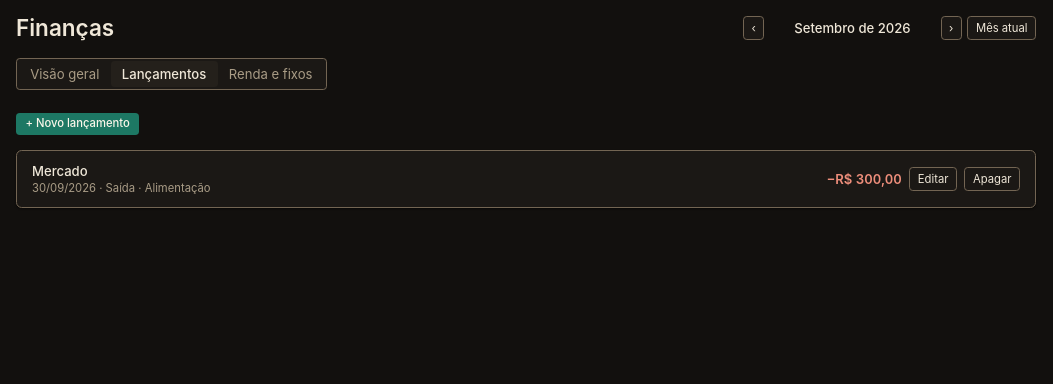
it: ConteudoDeFinancas › nova categoria sem nome ou com nome repetido mostra o motivo e continua aberta
Step 1. Click the button "+ Novo lançamento" → {"x": 78, "y": 124}, box [16, 112, 139, 135]
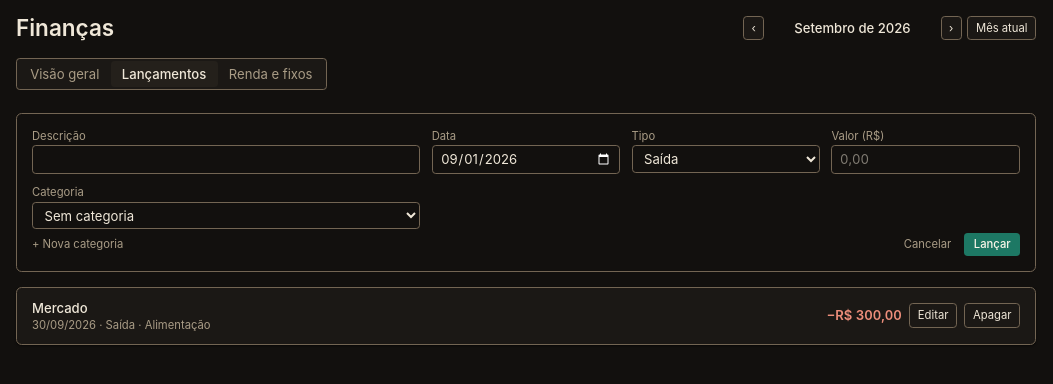
Step 2. Click the button "+ Nova categoria" → {"x": 78, "y": 244}, box [24, 233, 131, 256]
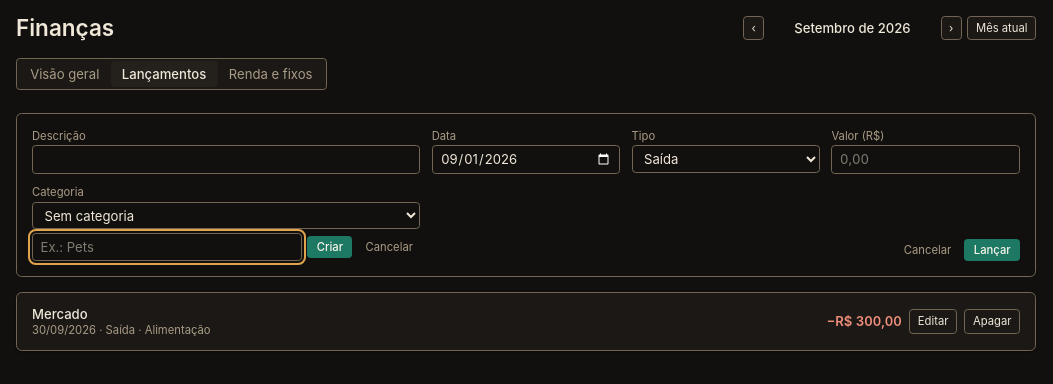
Step 3. Click the button "Criar" → {"x": 330, "y": 247}, box [307, 236, 352, 258]
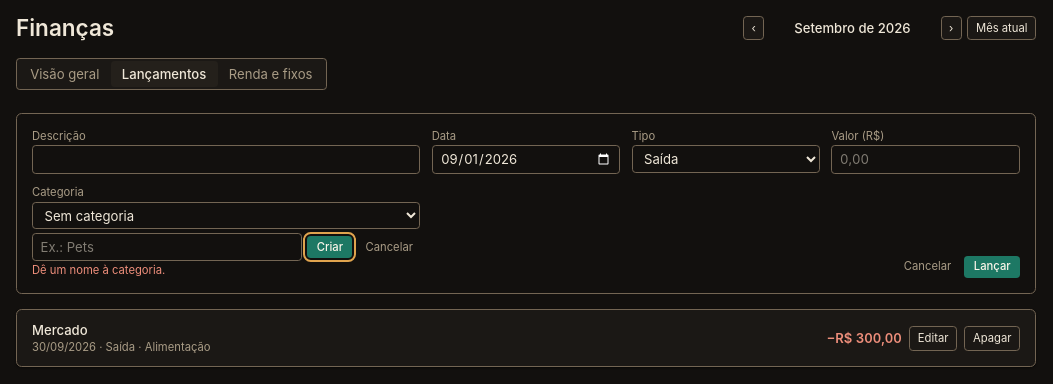
Result: the message reads "Dê um nome à categoria." at [32, 263, 165, 277]
Step 4. Type "MEI" into the field named "Nome da nova categoria" → {"x": 167, "y": 247}, box [32, 233, 302, 261]
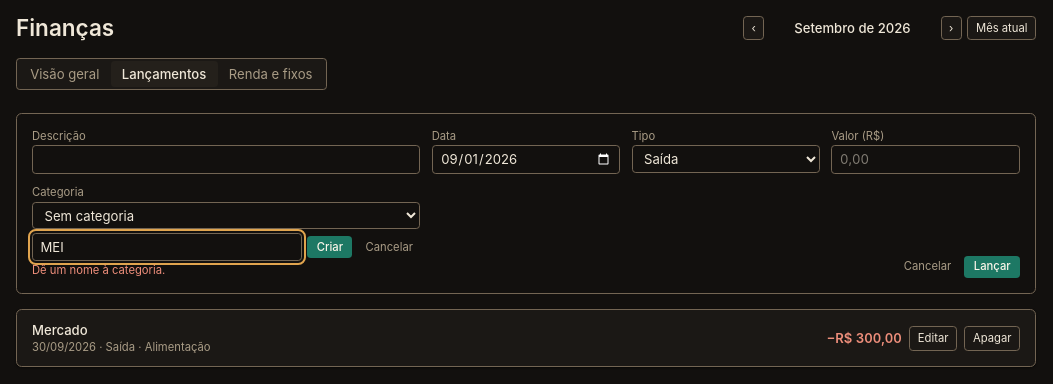
Step 5. Click the button "Criar" → {"x": 330, "y": 247}, box [307, 236, 352, 258]
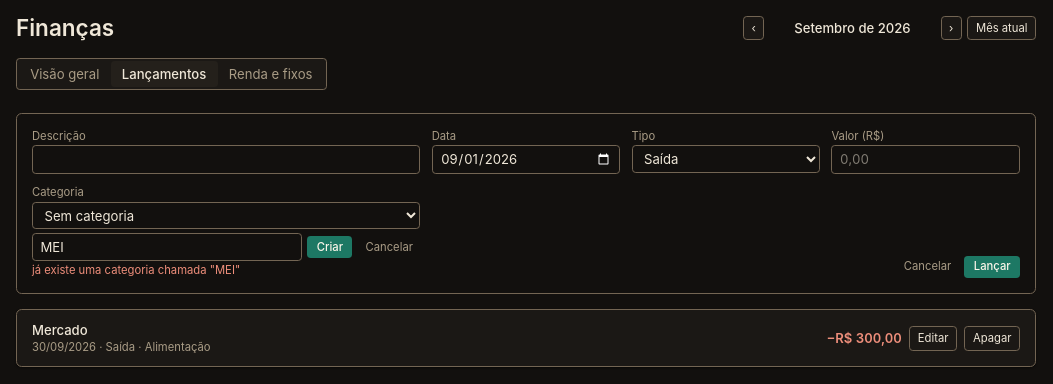
Result: the message reads "já existe uma categoria chamada \"MEI\"" at [32, 263, 240, 277]
